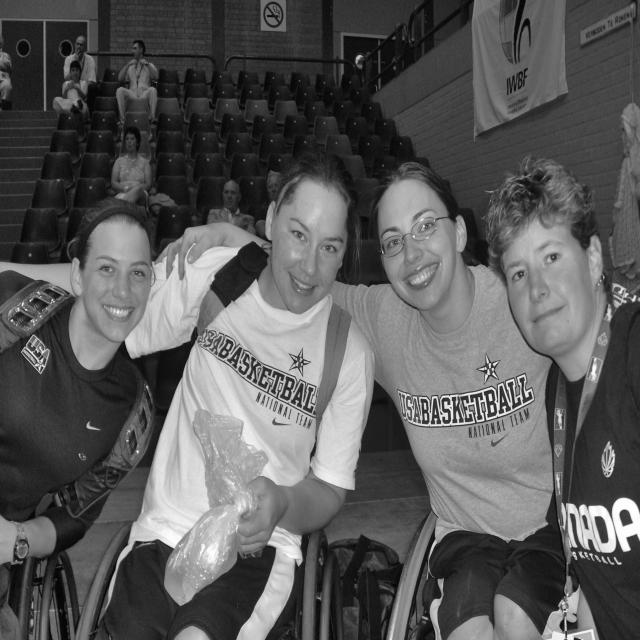person: (90, 158, 385, 632), (328, 144, 610, 637), (475, 137, 640, 635), (0, 205, 167, 640), (112, 28, 160, 121), (202, 179, 260, 235), (110, 129, 154, 202), (65, 26, 100, 82), (0, 34, 23, 110), (58, 56, 81, 131), (264, 164, 286, 203)
